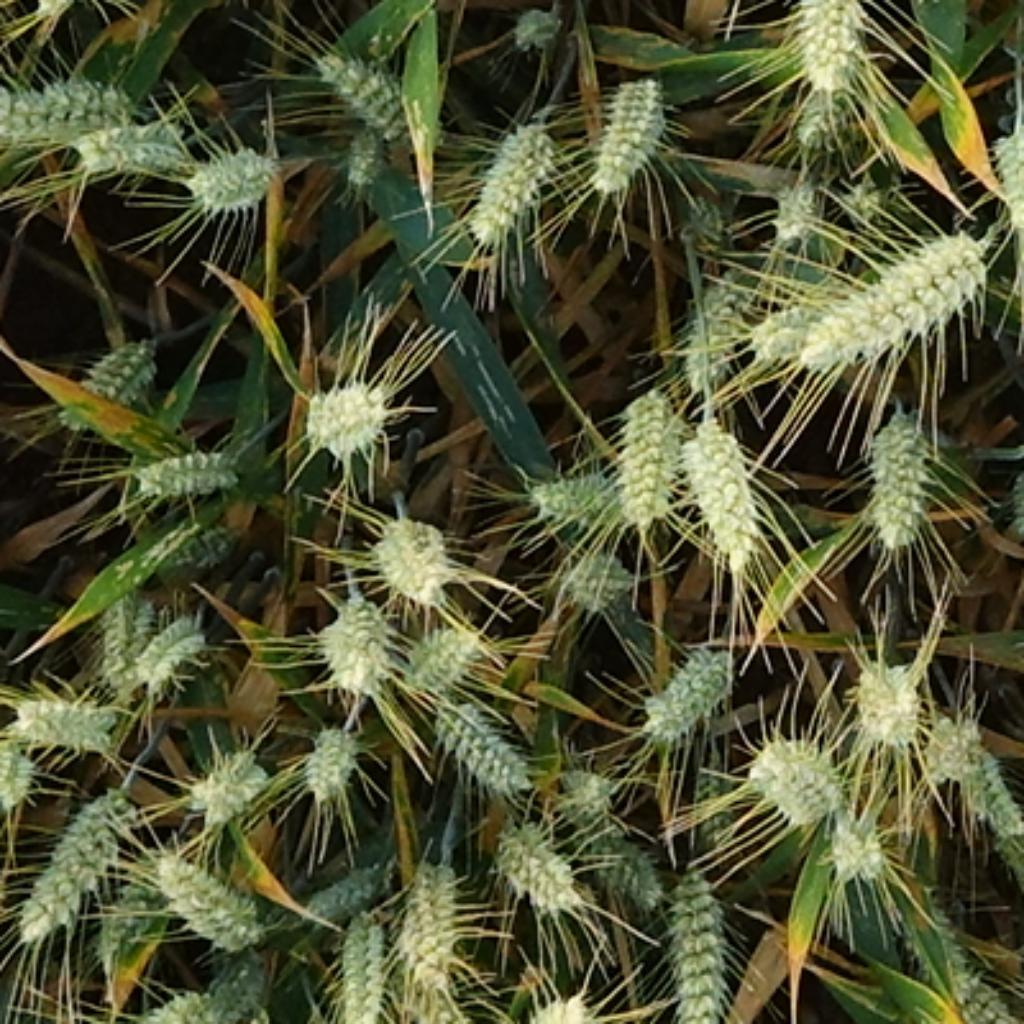0-0: (798, 232, 995, 368), (15, 783, 140, 939), (2, 61, 171, 156), (918, 692, 1024, 842), (675, 404, 768, 560), (458, 104, 560, 243), (655, 870, 742, 1024), (860, 391, 944, 547), (92, 583, 212, 691), (151, 847, 273, 949), (58, 320, 166, 435), (391, 844, 471, 993), (422, 686, 535, 791), (903, 880, 993, 1011), (583, 58, 675, 186), (637, 627, 739, 739), (604, 378, 683, 522), (742, 719, 852, 819), (53, 99, 197, 174), (312, 33, 419, 130), (138, 947, 276, 1021), (673, 258, 757, 378), (92, 847, 168, 975), (366, 509, 463, 609), (739, 294, 855, 376), (486, 808, 583, 906), (314, 588, 401, 696), (778, 0, 880, 92), (291, 371, 396, 460), (122, 509, 245, 578), (181, 130, 284, 212), (842, 642, 926, 742), (783, 56, 870, 151), (125, 437, 248, 504), (12, 675, 120, 747), (181, 737, 273, 821), (578, 816, 663, 906), (552, 540, 642, 614), (919, 698, 995, 783), (327, 919, 388, 1024), (296, 847, 384, 919), (401, 611, 483, 686), (527, 455, 622, 519), (296, 711, 366, 796), (391, 957, 471, 1024), (819, 803, 890, 878), (504, 975, 611, 1021), (668, 179, 734, 248), (332, 110, 394, 181), (984, 129, 1024, 237), (552, 752, 616, 819), (765, 168, 824, 240), (837, 163, 898, 227), (2, 732, 43, 821), (954, 970, 1021, 1024), (506, 0, 568, 46)
